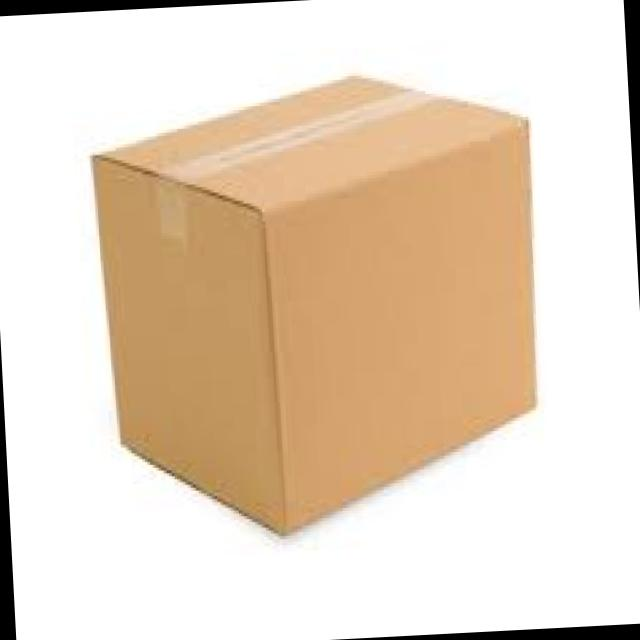box: (90, 75, 540, 538)
